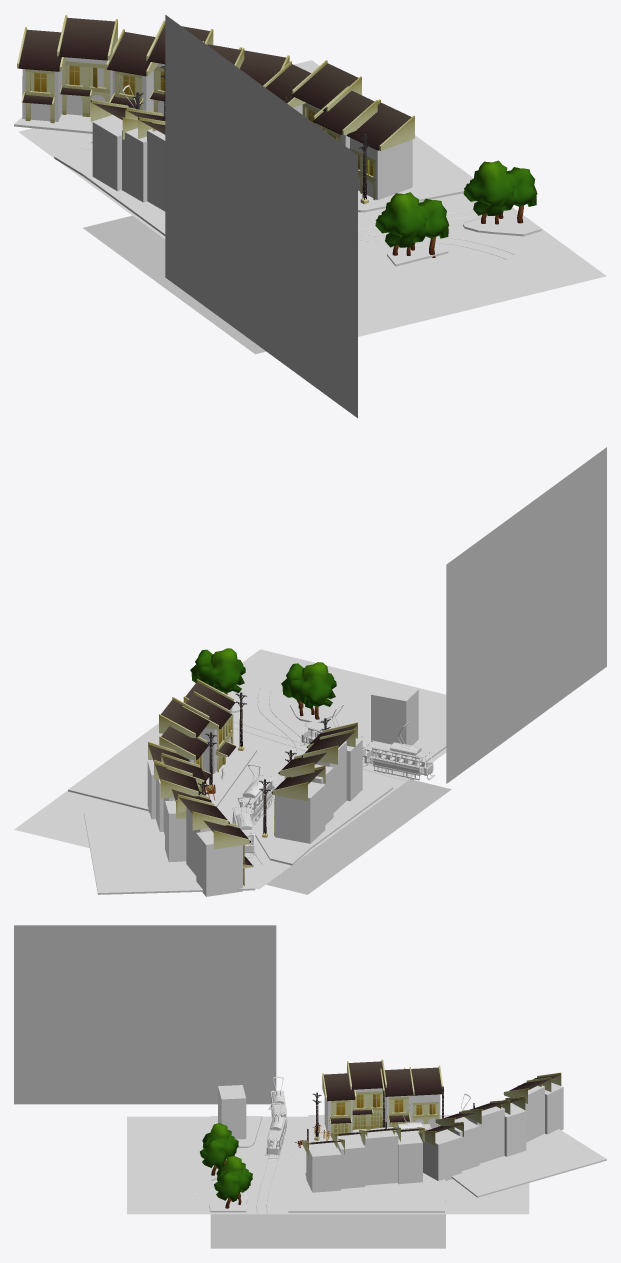
File: SM_Test_blockout_Street.fbx
3 views of the same model, one above another, from view 1: azimuth 30°, elevation 25°; view 2: azimuth 150°, elevation 25°; view 3: azimuth 270°, elevation 25° (orthographic). The views are drawn at different scales.
Parts seen in each view (by area): view 1: rue de la soie concept, Plane, rue de la soie map, Cube.002, SM_Arbre_002.005, SM_Arbre_002.002, Cube.013, SM_Rich_Facade_01.022, SM_Rich_Facade_01.009, Cube.009, SM_Rich_Facade_01.011, Cube.001 (+17 smaller); view 2: rue de la soie concept, Plane, Cube.018, rue de la soie map, Cube.002, Cube.020, Cube.001, Cube.082, Cube.009, SM_Arbre_002.005, SM_Arbre_002.002, SM_Rich_Facade_01.009 (+17 smaller); view 3: rue de la soie concept, Plane, rue de la soie map, Cube.018, Cube.002, Cube.011, Cube.063, Cube.013, Cube.020, Cube.017, Cube.012, Cube.010 (+15 smaller).
Boxes of the visible parts, left/top/right/bottom form: rue de la soie concept: left=165, top=15, right=357, bottom=418; Plane: left=18, top=60, right=606, bottom=336; rue de la soie map: left=83, top=215, right=265, bottom=354; Cube.002: left=358, top=135, right=473, bottom=212; SM_Arbre_002.005: left=375, top=192, right=449, bottom=247; SM_Arbre_002.002: left=463, top=160, right=537, bottom=215; Cube.013: left=350, top=137, right=412, bottom=200; SM_Rich_Facade_01.022: left=57, top=15, right=117, bottom=60; SM_Rich_Facade_01.009: left=291, top=60, right=361, bottom=111; Cube.009: left=92, top=115, right=122, bottom=191; SM_Rich_Facade_01.011: left=346, top=99, right=414, bottom=150; Cube.001: left=54, top=150, right=165, bottom=235; rue de la soie concept: left=446, top=447, right=606, bottom=783; Plane: left=14, top=649, right=446, bottom=889; Cube.018: left=84, top=812, right=255, bottom=894; rue de la soie map: left=266, top=779, right=451, bottom=894; Cube.002: left=68, top=723, right=256, bottom=811; Cube.020: left=371, top=683, right=418, bottom=745; Cube.001: left=255, top=780, right=393, bottom=865; Cube.082: left=196, top=831, right=242, bottom=896; Cube.009: left=275, top=782, right=325, bottom=843; SM_Arbre_002.005: left=281, top=662, right=336, bottom=708; SM_Arbre_002.002: left=190, top=648, right=245, bottom=693; SM_Rich_Facade_01.009: left=159, top=697, right=210, bottom=738; rue de la soie concept: left=14, top=925, right=276, bottom=1104; Plane: left=127, top=1116, right=529, bottom=1214; rue de la soie map: left=210, top=1214, right=445, bottom=1248; Cube.018: left=451, top=1129, right=606, bottom=1197; Cube.002: left=288, top=1170, right=445, bottom=1212; Cube.011: left=361, top=1130, right=398, bottom=1185; Cube.063: left=421, top=1129, right=461, bottom=1180; Cube.013: left=306, top=1142, right=341, bottom=1192; Cube.020: left=218, top=1085, right=246, bottom=1139; Cube.017: left=468, top=1106, right=504, bottom=1163; Cube.012: left=337, top=1134, right=364, bottom=1188; Cube.010: left=398, top=1130, right=422, bottom=1184.
Size of the model in its own units: 5067 by 4530 by 11362.
